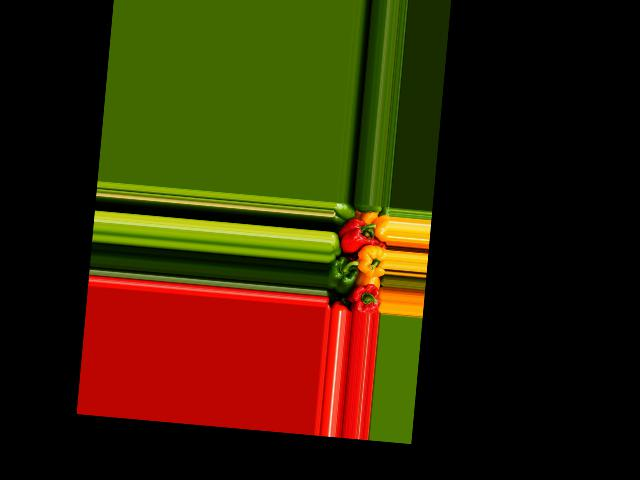bell_pepper: (346, 278, 382, 313)
